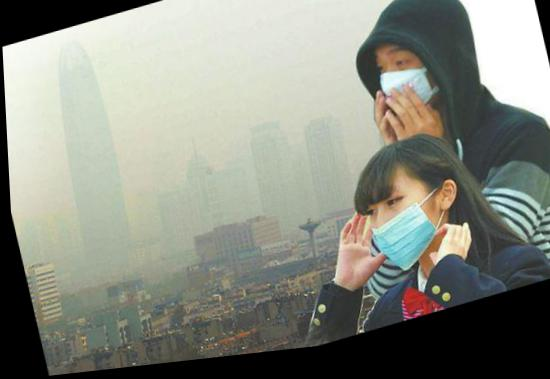OK: (366, 42, 449, 135)
WRONG: (358, 188, 444, 283)
